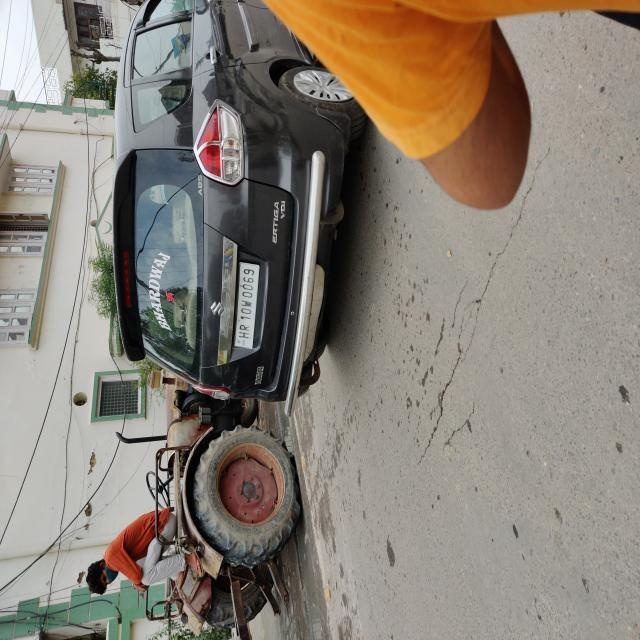Car: (92, 0, 376, 414)
